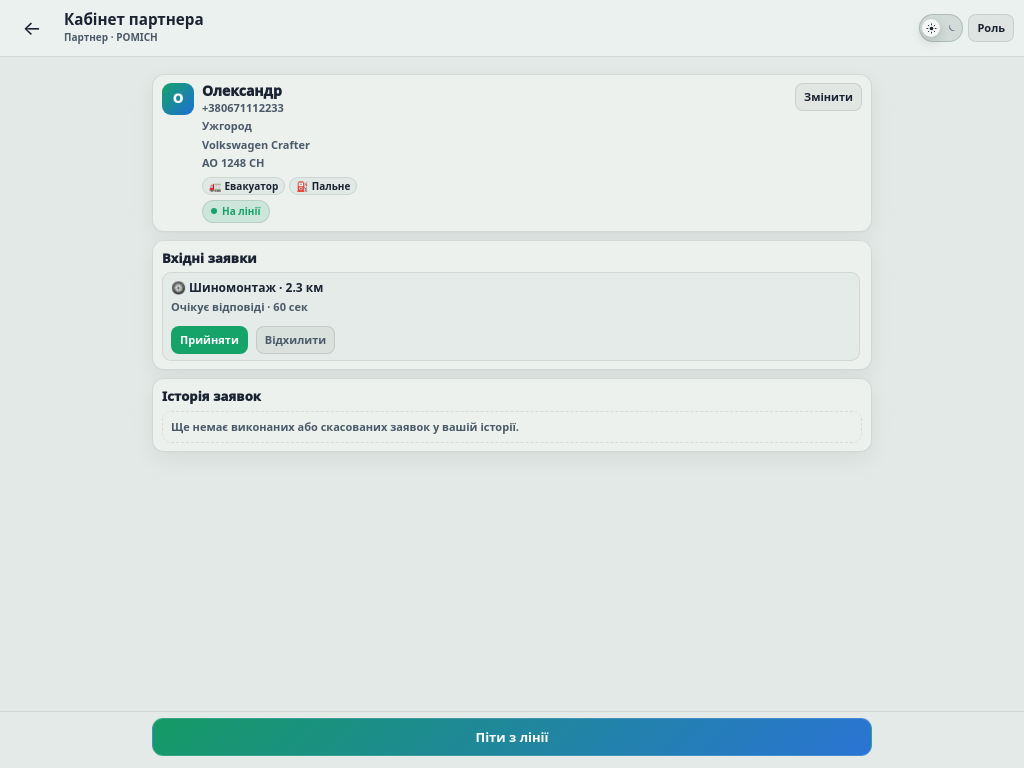
Test case: ProviderCabinet › shows Прийняти and Відхилити for pending offers and opens the request sheet
Expected: the button "Відхилити" is shown, top-left (256, 326), bottom-right (335, 354)
Expected: the text "🛞 Шиномонтаж · 2.3 км" is shown, top-left (171, 279), bottom-right (323, 296)
Click the button "Прийняти".
click(209, 340)  # box top-left (171, 326), bottom-right (248, 354)
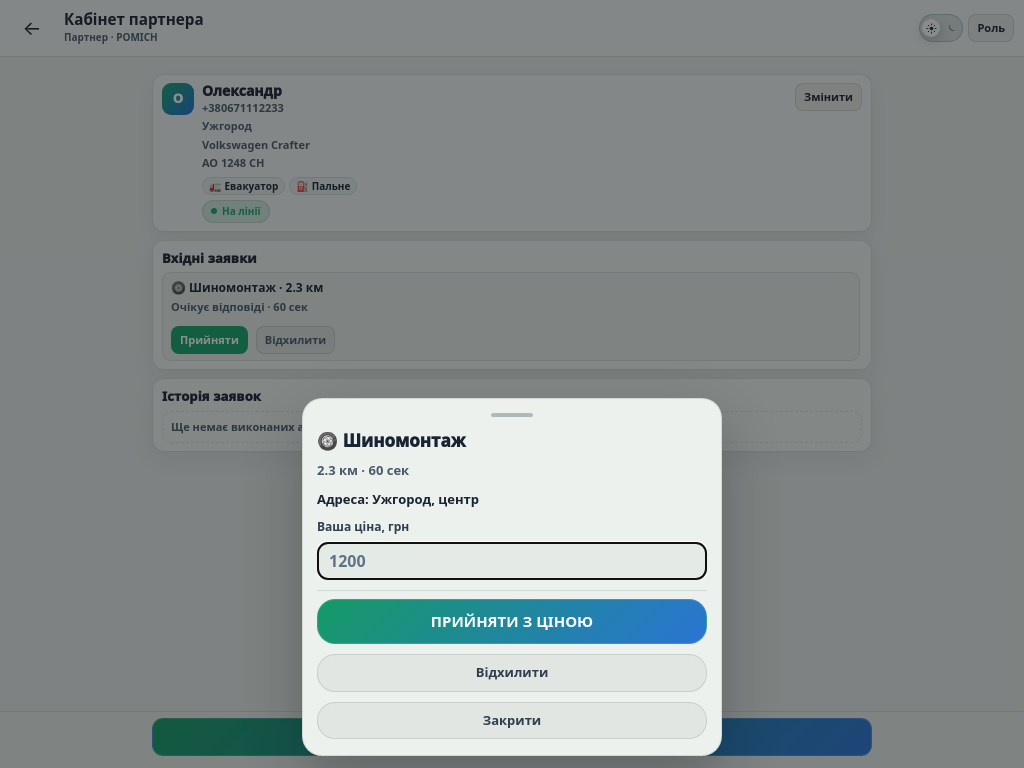
Now the dialog named "Деталі заявки" is shown
Now the button "ПРИЙНЯТИ З ЦІНОЮ" is shown, box top-left (317, 599), bottom-right (707, 644)
